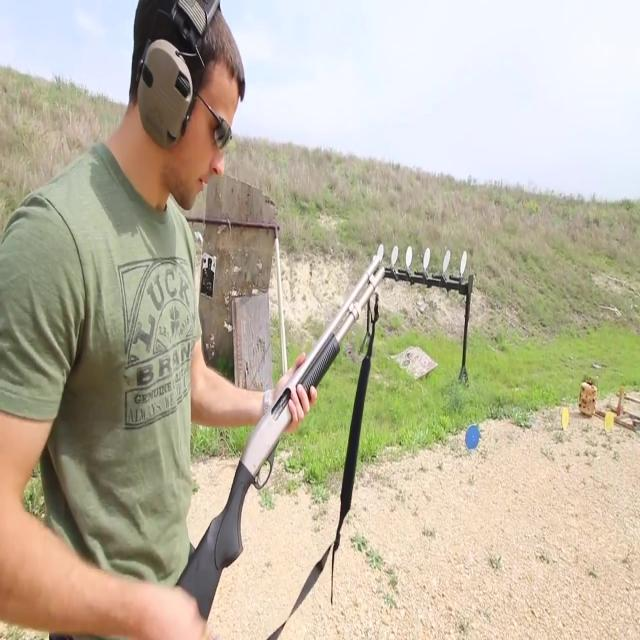Weapon: (137, 236, 403, 640)
